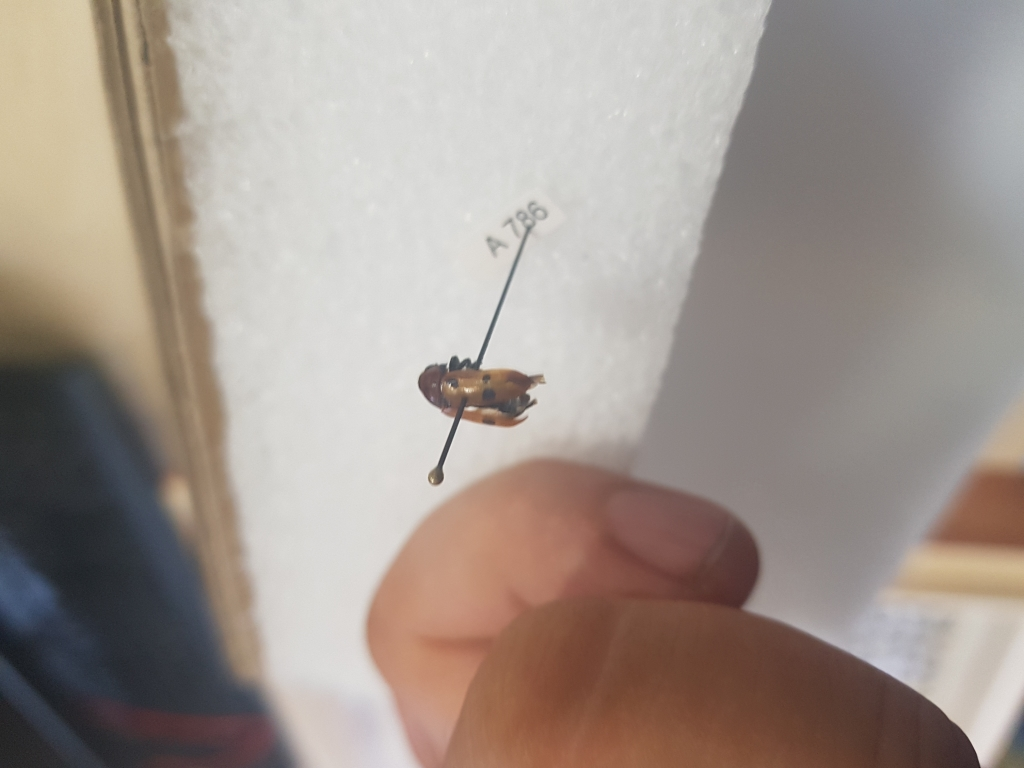Clytra_novempunctata: (419, 358, 551, 430)
